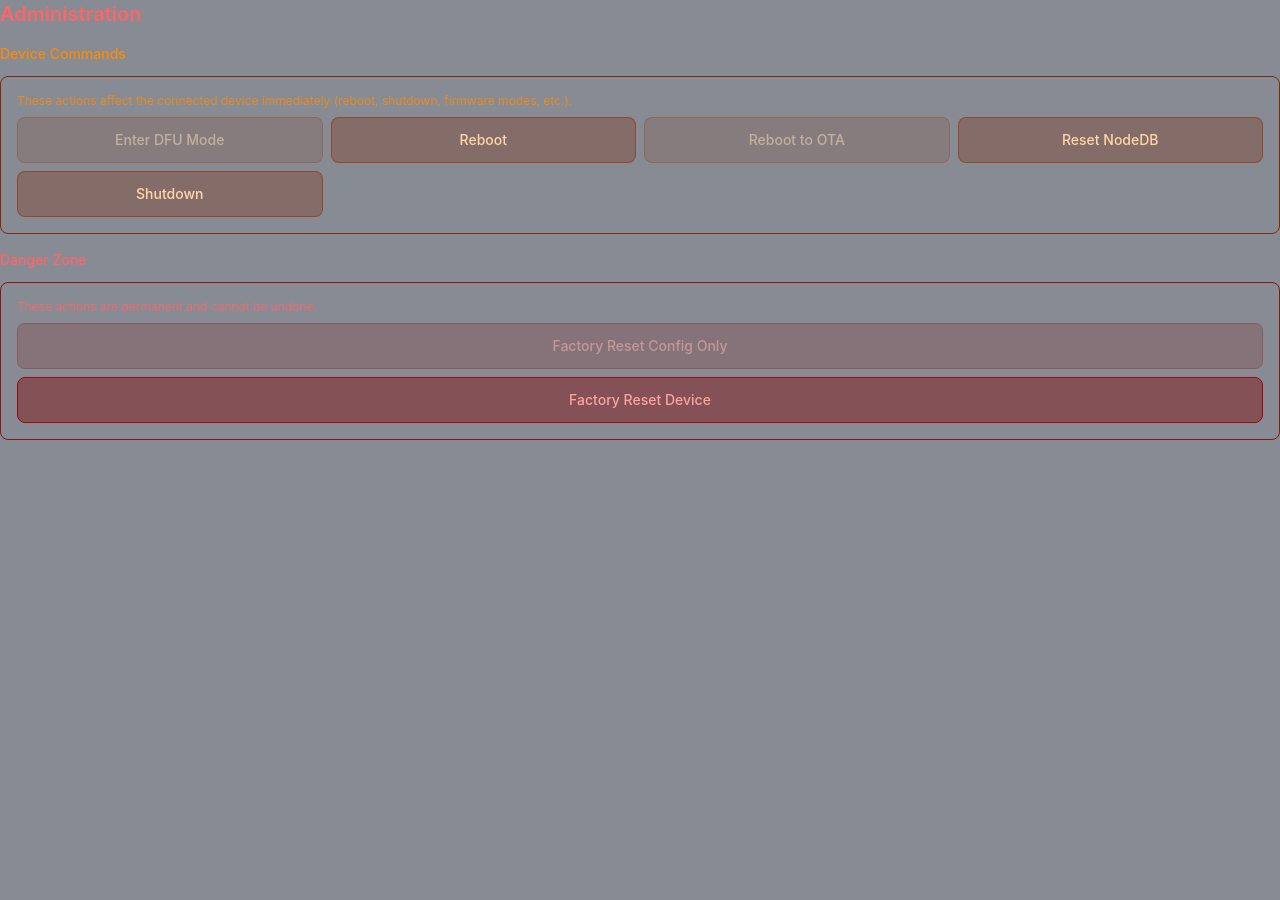
AdminPanel › shows error toast when reboot fails
Click the button "Reboot". click: (483, 140)
box: [330,117,636,163]
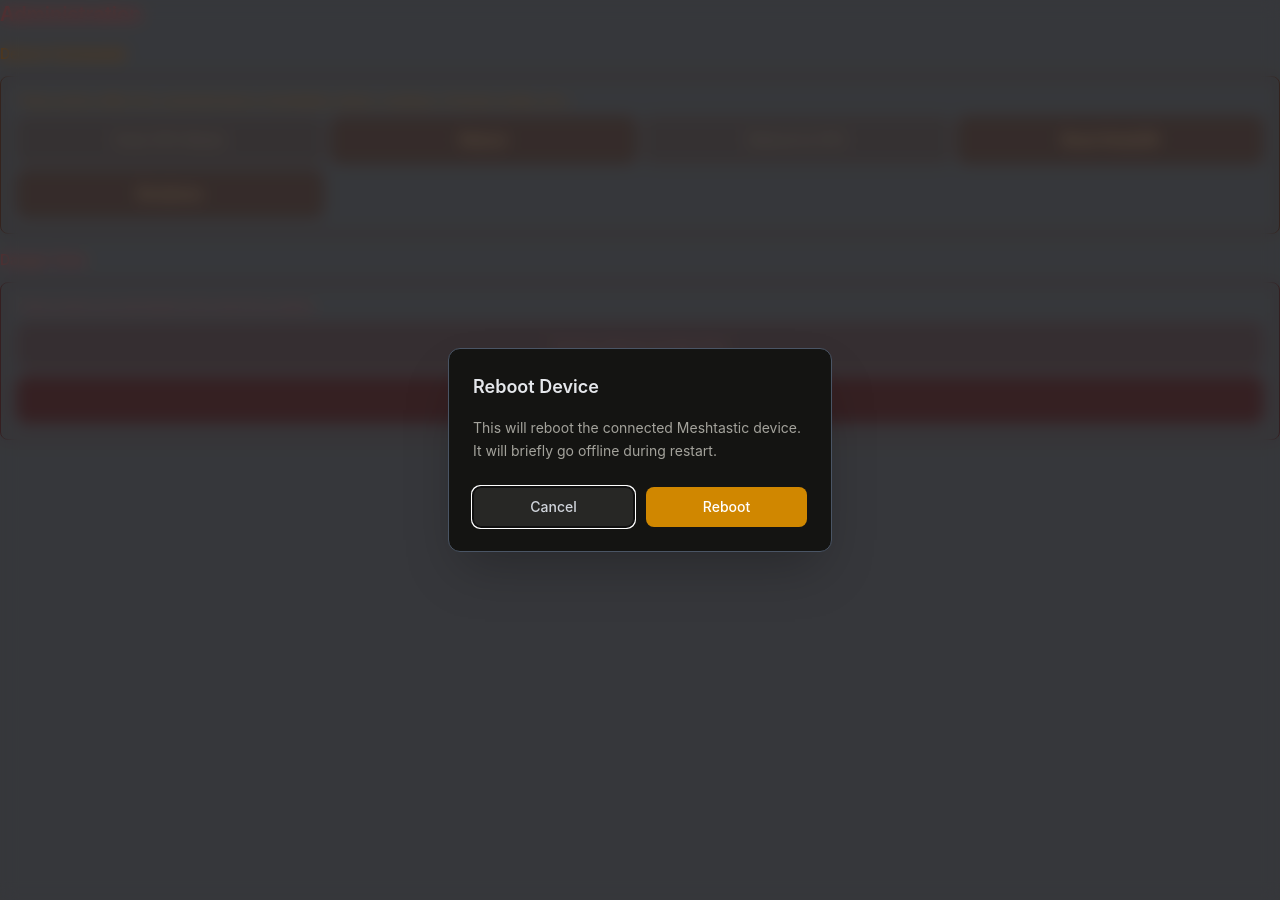
Click the button "Reboot". click: (726, 507)
box: [646,487,807,527]
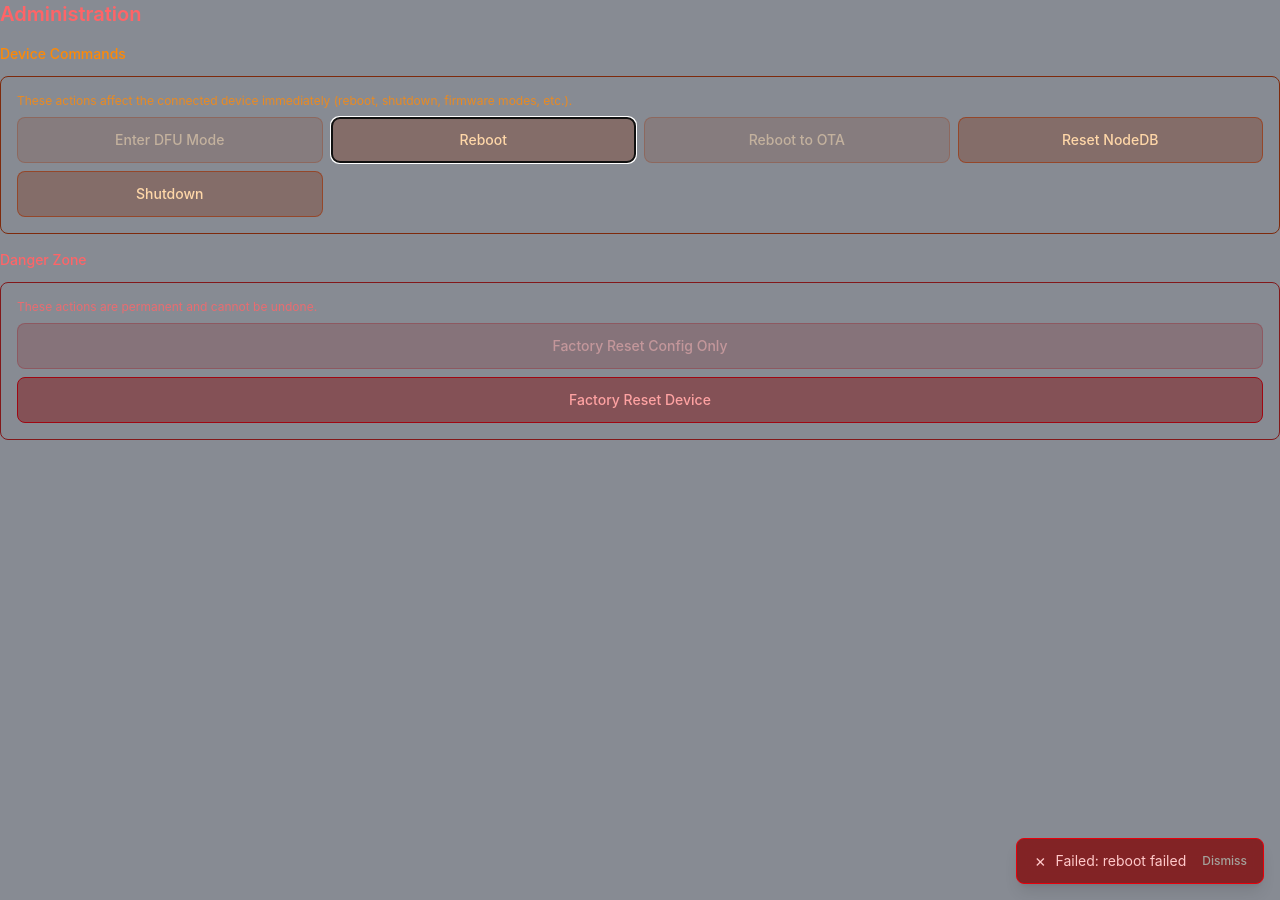
expect the text "Failed: reboot failed" is shown: met, box [1056,851,1186,871]
